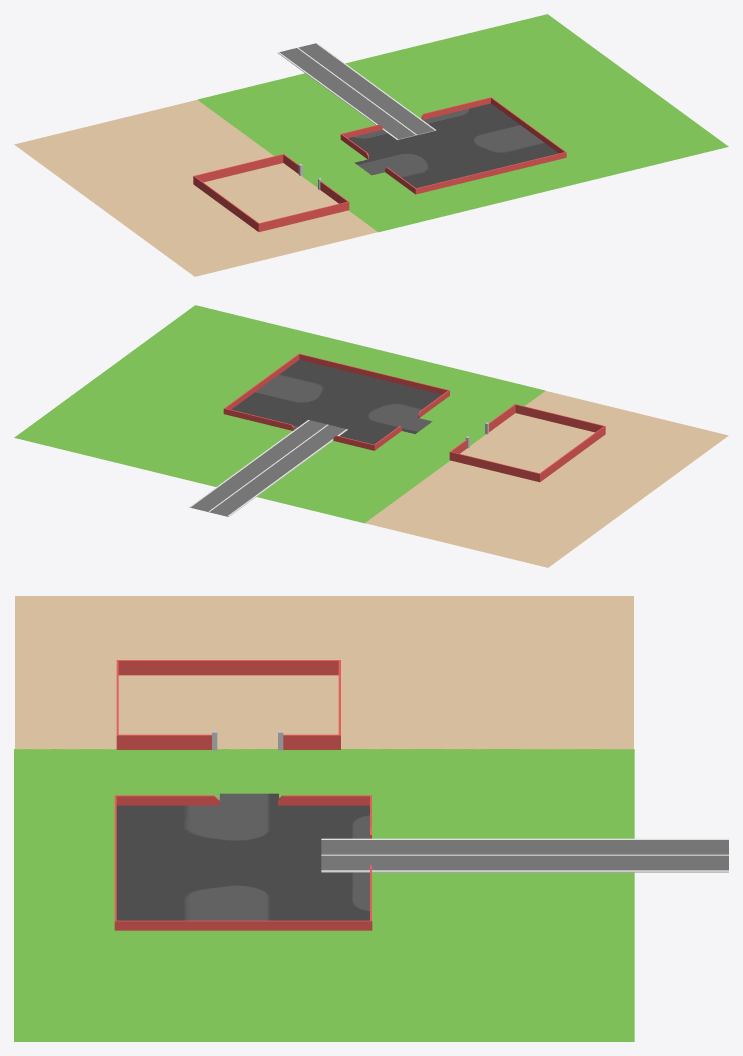
Rendered from Level.fbx.
The picture shows the model from 3 angles, top to bottom: view 1: azimuth 30°, elevation 25°; view 2: azimuth 150°, elevation 25°; view 3: azimuth 270°, elevation 25°; orthographic projection. The views are drawn at different scales.
Parts seen in each view (by area): view 1: Plane.001, Plane.002, Plane, Cube.055, Cube.079, Cube.004, Cube.005, Cube.006, Cube.054; view 2: Plane.001, Plane.002, Plane, Cube.055, Cube.079, Cube.005, Cube.004, Cube.006, Cube.054; view 3: Plane.001, Plane.002, Plane, Cube.055, Cube.006, Cube.079, Cube.002, Cube.074, Cube.078, Cube.003.
Part boxes in pixels (bbox=[...]): Plane.001: bbox=[197, 14, 728, 232]; Plane.002: bbox=[14, 100, 377, 276]; Plane: bbox=[348, 103, 558, 188]; Cube.055: bbox=[278, 43, 436, 139]; Cube.079: bbox=[416, 97, 566, 193]; Cube.004: bbox=[259, 201, 348, 231]; Cube.005: bbox=[193, 154, 283, 184]; Cube.006: bbox=[194, 176, 259, 231]; Cube.054: bbox=[421, 97, 490, 119]; Plane.001: bbox=[14, 305, 545, 523]; Plane.002: bbox=[365, 391, 728, 567]; Plane: bbox=[231, 360, 441, 444]; Cube.055: bbox=[189, 420, 347, 516]; Cube.079: bbox=[223, 353, 448, 414]; Cube.005: bbox=[450, 452, 540, 482]; Cube.004: bbox=[515, 404, 603, 432]; Cube.006: bbox=[540, 426, 605, 481]; Cube.054: bbox=[224, 408, 293, 430]; Plane.001: bbox=[14, 749, 634, 1041]; Plane.002: bbox=[15, 596, 633, 749]; Plane: bbox=[116, 793, 369, 920]; Cube.055: bbox=[321, 838, 728, 872]; Cube.006: bbox=[116, 660, 338, 675]; Cube.079: bbox=[114, 796, 372, 930]; Cube.002: bbox=[116, 734, 211, 749]; Cube.074: bbox=[114, 795, 219, 805]; Cube.078: bbox=[278, 795, 371, 805]; Cube.003: bbox=[283, 734, 340, 749].
Size of the model in its own units: 19950 by 372 by 13519.
